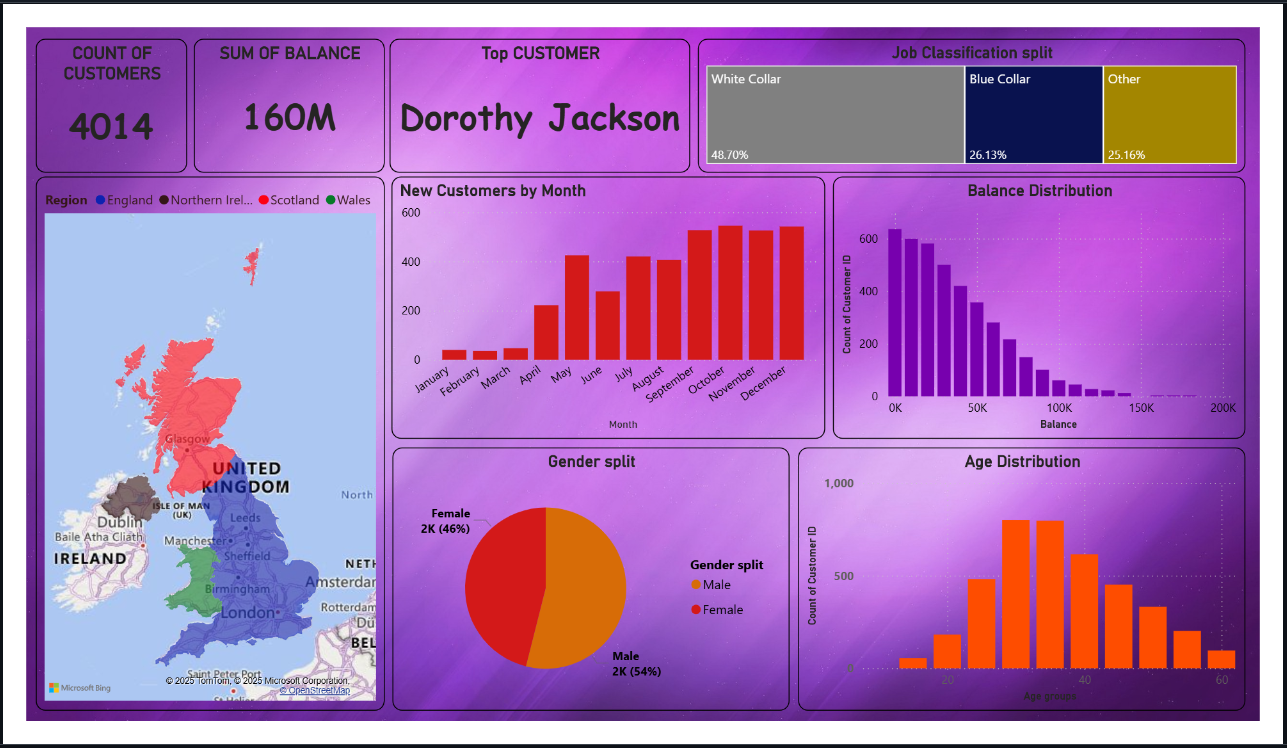

What the dashboard file says about the page in this screenshot:
{"tool":"powerbi","page":{"name":"Page 1","canvas":[1280,720],"ordinal":0},"visuals":[{"type":"card","title":"COUNT OF CUSTOMERS","fields":{"Values":["CountNonNull(Bank Data.Customer ID)"]},"box":[9.6,12.3,157.8,138.6],"z":0},{"type":"card","title":"SUM OF BALANCE","fields":{"Values":["Sum(Bank Data.Balance)"]},"box":[174.3,12.3,197.6,138.6],"z":1000},{"type":"card","title":"Top CUSTOMER","fields":{"Values":["Min(Bank Data.Customer Name)"]},"box":[377.4,12.3,311.5,138.6],"z":2000},{"type":"clusteredColumnChart","fields":{"Category":["Bank Data.Date Joined.Variation.Date Hierarchy.Month","Bank Data.Date Joined.Variation.Date Hierarchy.Day"],"Y":["CountNonNull(Bank Data.Customer ID)"]},"box":[378.7,155.1,450.1,271.7],"z":3000},{"type":"filledMap","fields":{"Category":["Bank Data.Region"],"Series":["Bank Data.Region"]},"box":[9.6,155.1,362.3,554.4],"z":4000},{"type":"pieChart","title":"Gender split","fields":{"Category":["Bank Data.Gender"],"Y":["CountNonNull(Bank Data.Customer ID)"]},"box":[380.1,436.4,411.7,273.1],"z":5000},{"type":"treemap","title":"Job Classification split","fields":{"Group":["Bank Data.Job Classification"],"Values":["CountNonNull(Bank Data.Customer ID)"]},"box":[697.1,12.3,568.1,138.6],"z":6000},{"type":"clusteredColumnChart","title":"Age Distribution","fields":{"Category":["Bank Data.Age groups"],"Y":["CountNonNull(Bank Data.Customer ID)"]},"box":[801.4,436.4,463.8,273.1],"z":7000},{"type":"clusteredColumnChart","title":"Balance Distribution","fields":{"Category":["Bank Data.Balance (bins)"],"Y":["CountNonNull(Bank Data.Customer ID)"]},"box":[837.1,155.1,428.1,271.7],"z":8000}]}

Visuals, with their boxes on the page's 1280x720 design canvas (x1, y1, x2, y2). These are canvas units, not pixel positions in the 1287x748 screenshot, which may show the page scaled, cropped or inside an application window:
"COUNT OF CUSTOMERS" card: pyautogui.locateOnScreen(10, 12, 167, 151)
"SUM OF BALANCE" card: pyautogui.locateOnScreen(174, 12, 372, 151)
"Top CUSTOMER" card: pyautogui.locateOnScreen(377, 12, 689, 151)
clusteredColumnChart - Bank Data.Date Joined.Variation.Date Hierarchy.Month x Bank Data.Date Joined.Variation.Date Hierarchy.Day: pyautogui.locateOnScreen(379, 155, 829, 427)
filledMap - Bank Data.Region x Bank Data.Region: pyautogui.locateOnScreen(10, 155, 372, 710)
"Gender split" pieChart: pyautogui.locateOnScreen(380, 436, 792, 710)
"Job Classification split" treemap: pyautogui.locateOnScreen(697, 12, 1265, 151)
"Age Distribution" clusteredColumnChart: pyautogui.locateOnScreen(801, 436, 1265, 710)
"Balance Distribution" clusteredColumnChart: pyautogui.locateOnScreen(837, 155, 1265, 427)
